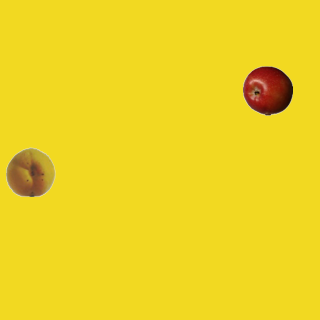Apple Braeburn: (242, 65, 292, 115)
Peach 2: (5, 146, 55, 196)
